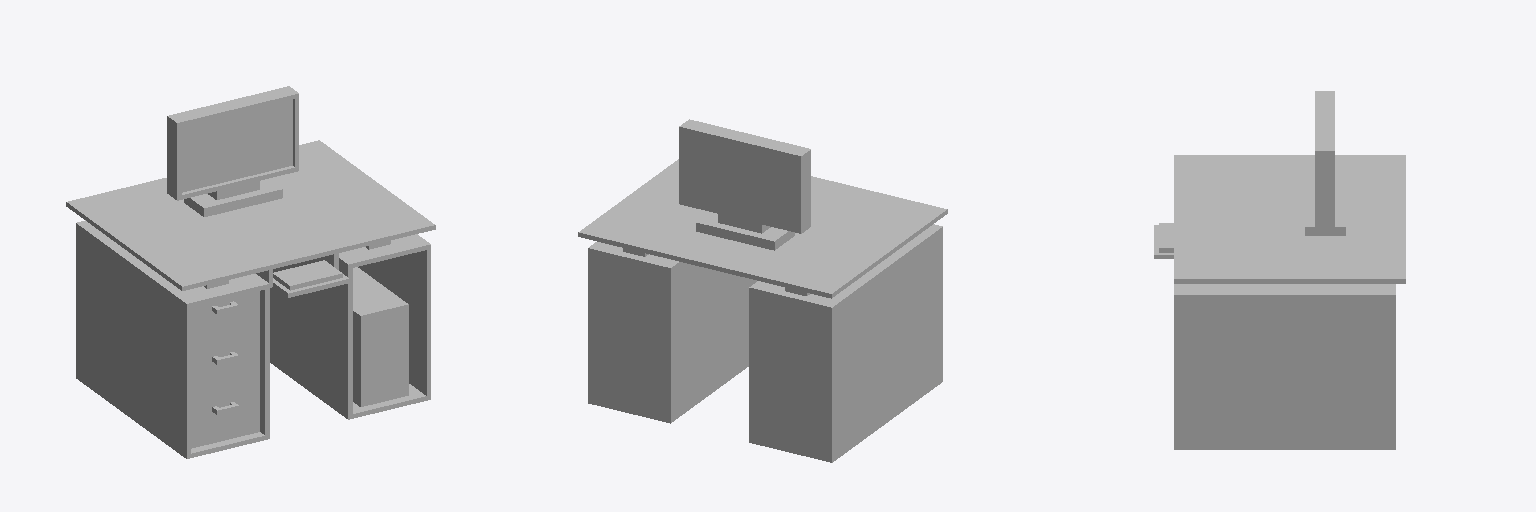
File: table.obj
3 views of the same model, side by side, from view 1: azimuth 30°, elevation 25°; view 2: azimuth 150°, elevation 25°; view 3: azimuth 270°, elevation 25° (orthographic).
Parts seen in each view (by area): view 1: object 1; view 2: object 1; view 3: object 1.
Boxes of the visible parts, <box> form: object 1: <box>66,86,435,458</box>; object 1: <box>578,119,947,462</box>; object 1: <box>1154,91,1405,449</box>.
Bounding box in the file's own units: 5.8 × 5.9 × 5.